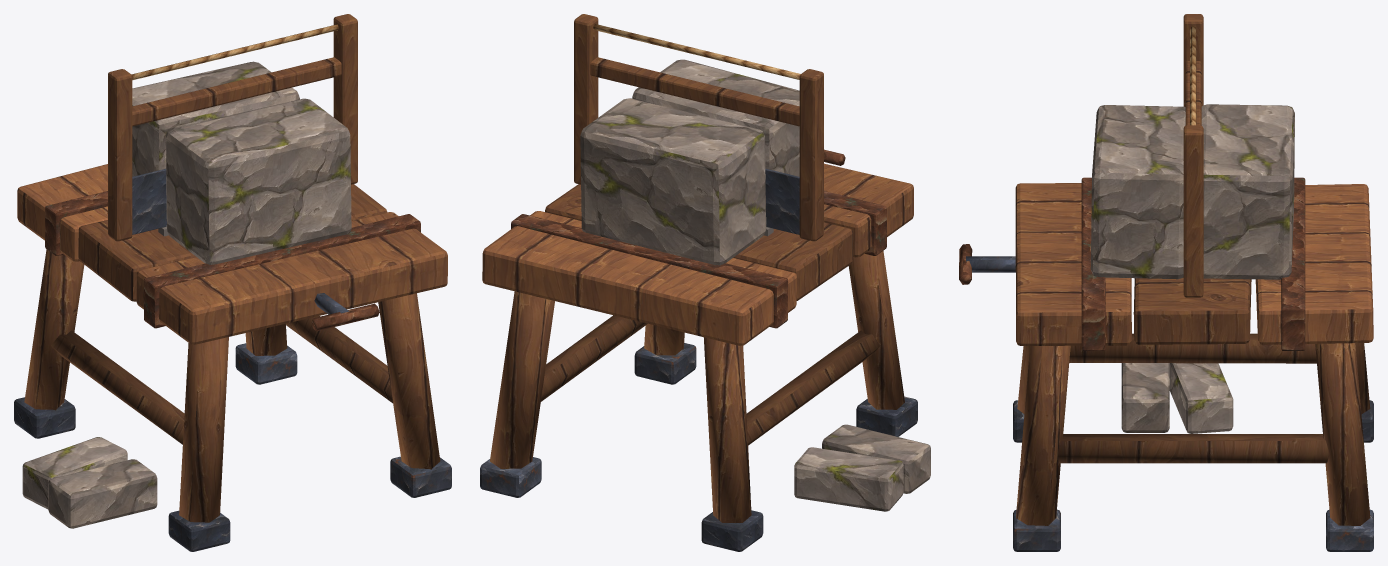
The model's file is stone_saw.glb.
3 views of the same model, side by side, from view 1: azimuth 30°, elevation 25°; view 2: azimuth 150°, elevation 25°; view 3: azimuth 270°, elevation 25° (orthographic).
Visible parts, largest first — view 1: model; view 2: model; view 3: model.
Boxes of the visible parts, bbox=[...] form: model: bbox=[14, 14, 451, 551]; model: bbox=[480, 14, 930, 551]; model: bbox=[959, 14, 1373, 551].
Size of the model in its own units: 0.9764 by 1.15 by 1.04.
Materials: 12 (11 with a texture image).
